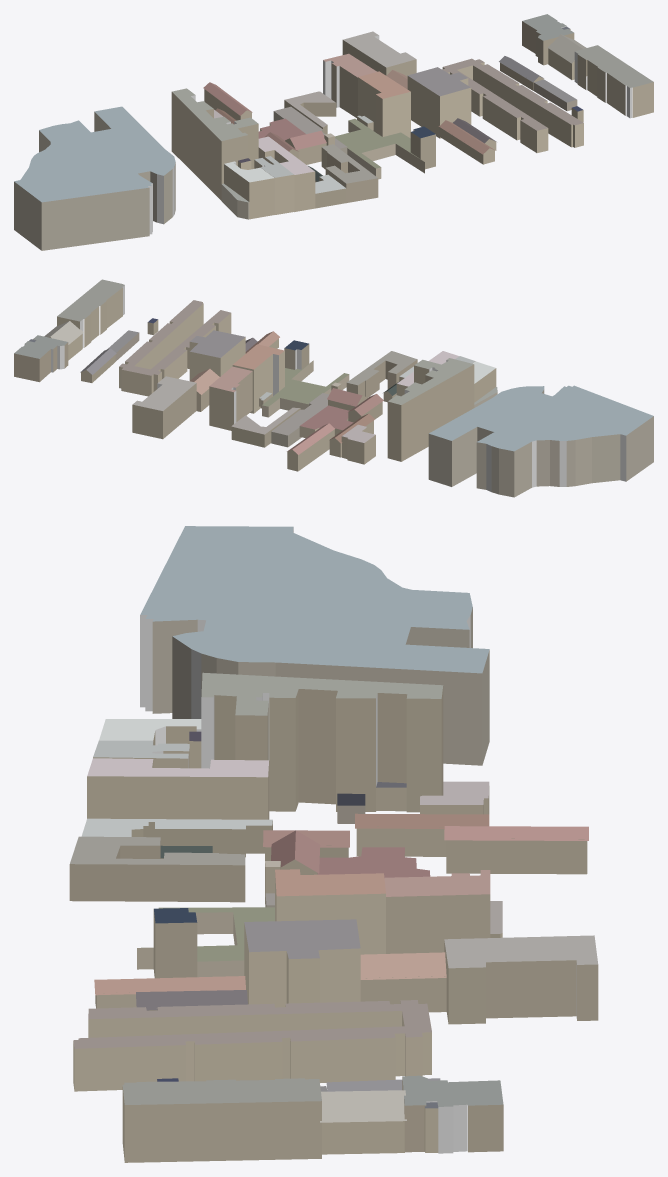
3 views of the same model, one above another, from view 1: azimuth 30°, elevation 25°; view 2: azimuth 150°, elevation 25°; view 3: azimuth 270°, elevation 25° (orthographic). The views are drawn at different scales.
Parts seen in each view (by area): view 1: tuile; view 2: tuile; view 3: tuile.
Boxes of the visible parts, x1,y1,x2,y2 form: tuile: (14, 14, 653, 250); tuile: (14, 279, 653, 497); tuile: (69, 526, 598, 1162).
Size of the model in its own units: 248 by 25.95 by 99.89.
